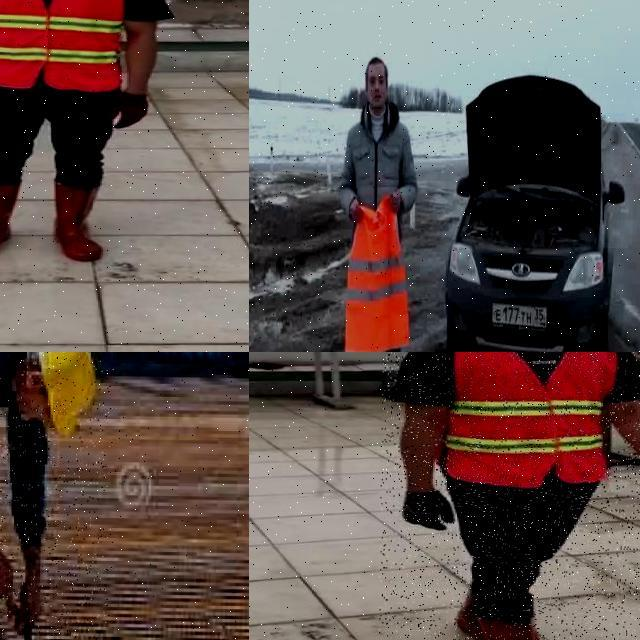boots: (52, 180, 106, 262), (476, 615, 587, 640), (454, 576, 494, 640), (0, 182, 23, 261)
helmet: (35, 352, 103, 443)
vest: (434, 352, 611, 487), (0, 0, 127, 91), (344, 189, 413, 352)
